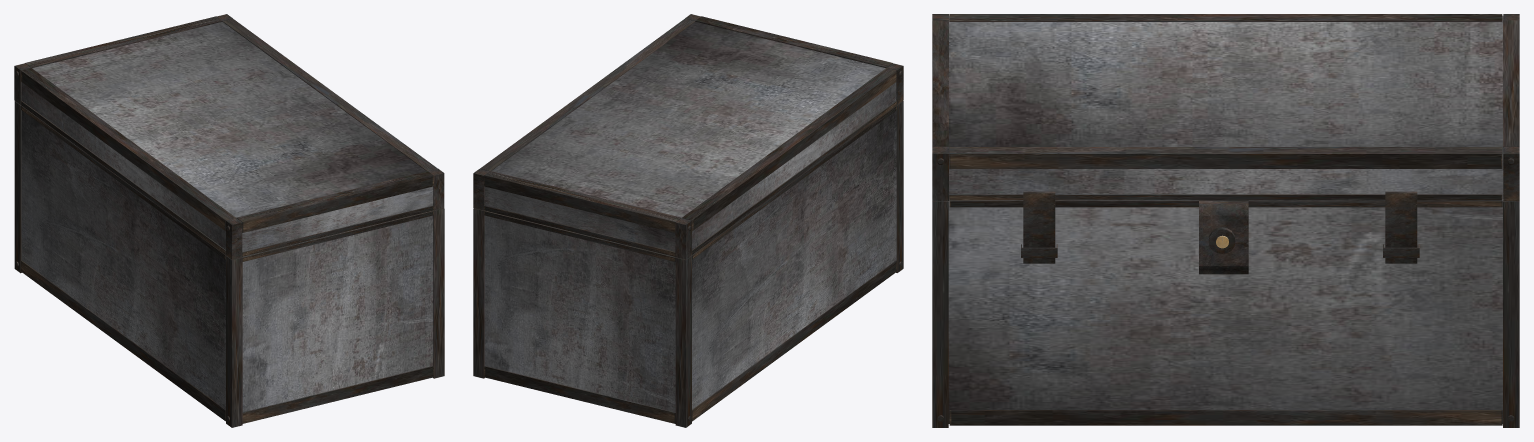
Rendered from bau.fbx.
3 renders of one model, left to right at view 1: azimuth 30°, elevation 25°; view 2: azimuth 150°, elevation 25°; view 3: azimuth 270°, elevation 25°, orthographic. The views are drawn at different scales.
Visible parts, largest first — view 1: Cube.035, Cube.034; view 2: Cube.035, Cube.034; view 3: Cube.035, Cube.034.
Part boxes in pixels (x1=…): Cube.035: x1=14, y1=101, x2=444, y2=427; Cube.034: x1=14, y1=14, x2=444, y2=259; Cube.035: x1=473, y1=101, x2=903, y2=427; Cube.034: x1=473, y1=14, x2=903, y2=259; Cube.035: x1=932, y1=68, x2=1519, y2=427; Cube.034: x1=932, y1=14, x2=1519, y2=263.
Size of the model in its own units: 485 by 418 by 811.
